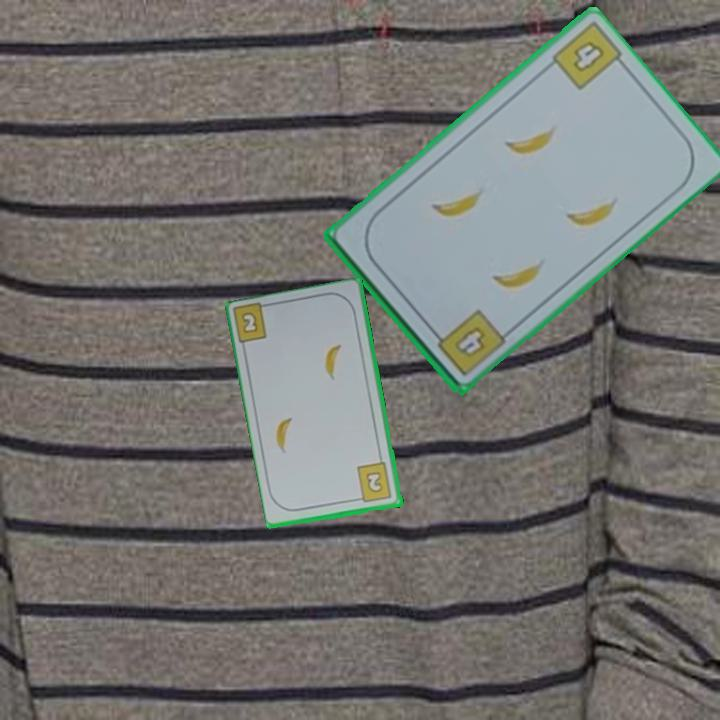2b: (353, 459, 395, 506), (238, 308, 261, 337)
4b: (427, 305, 508, 379), (569, 36, 608, 75)
